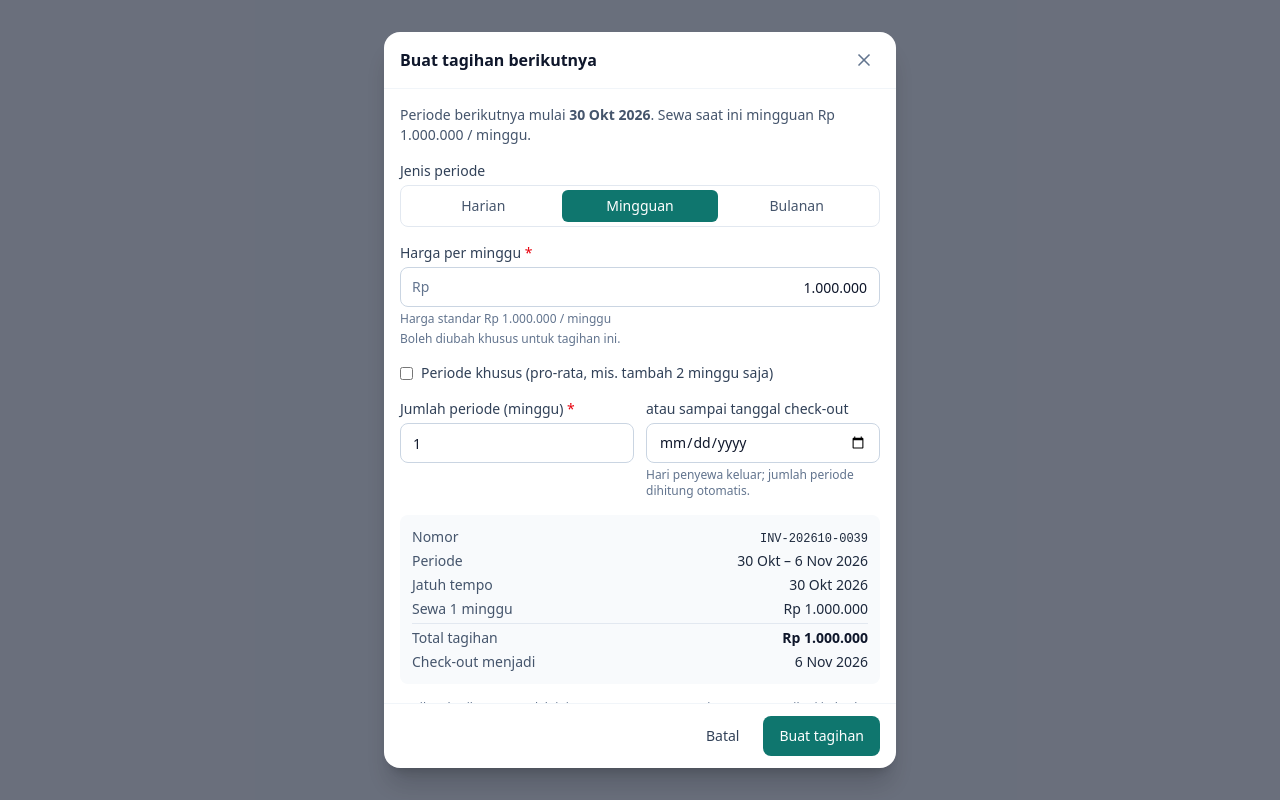
it: Buat tagihan berikutnya: deposit when a stay switches to weekly or monthly › a deposit partly received before: only what is still owed is received now
The width and height of the screenshot is (1280, 800).
Click the 2nd radio button labelled "Bulanan": (797, 206) left=718, top=190, right=875, bottom=222
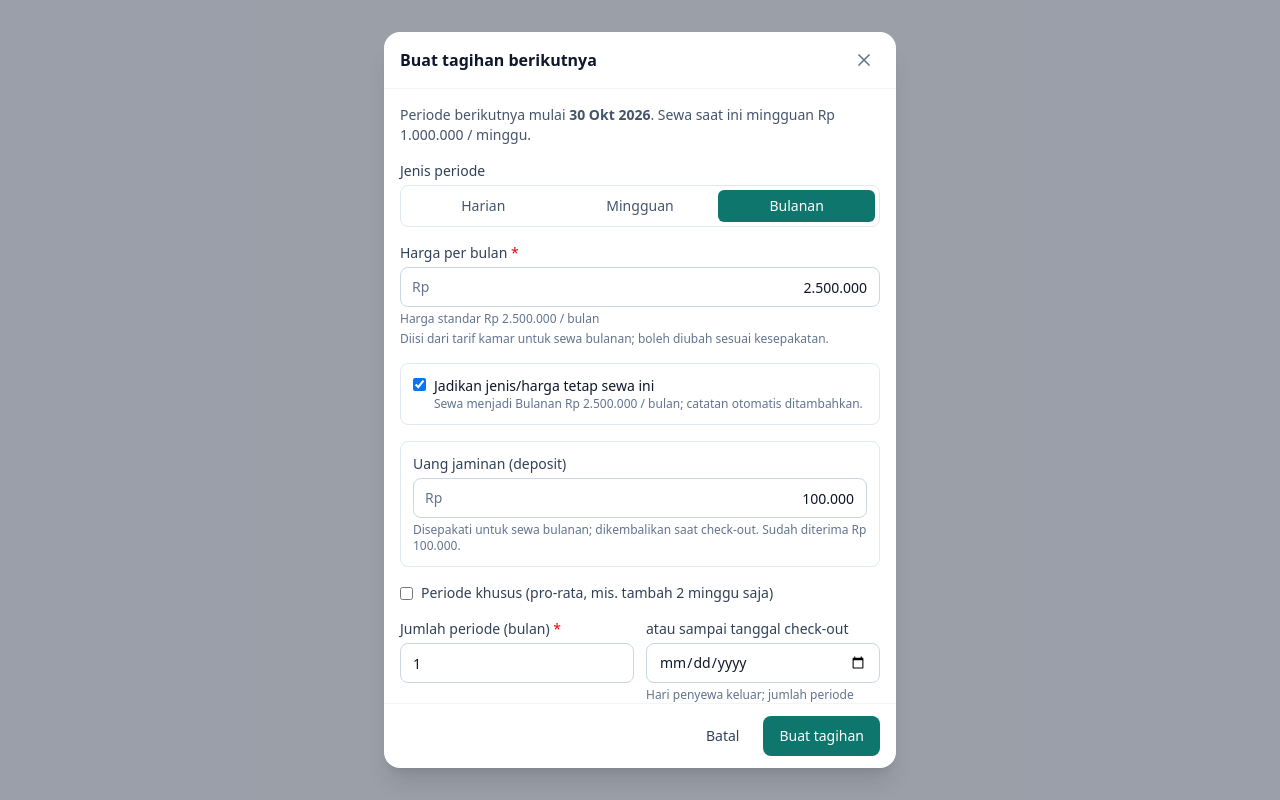
Now the field labelled "Uang jaminan (deposit)" holds "100.000"
Now the text "Sudah diterima Rp 100.000." is shown, box left=413, top=521, right=866, bottom=554
Replace the text in the field labelled "Uang jaminan (deposit)" with "300000": (640, 498) left=413, top=478, right=867, bottom=518
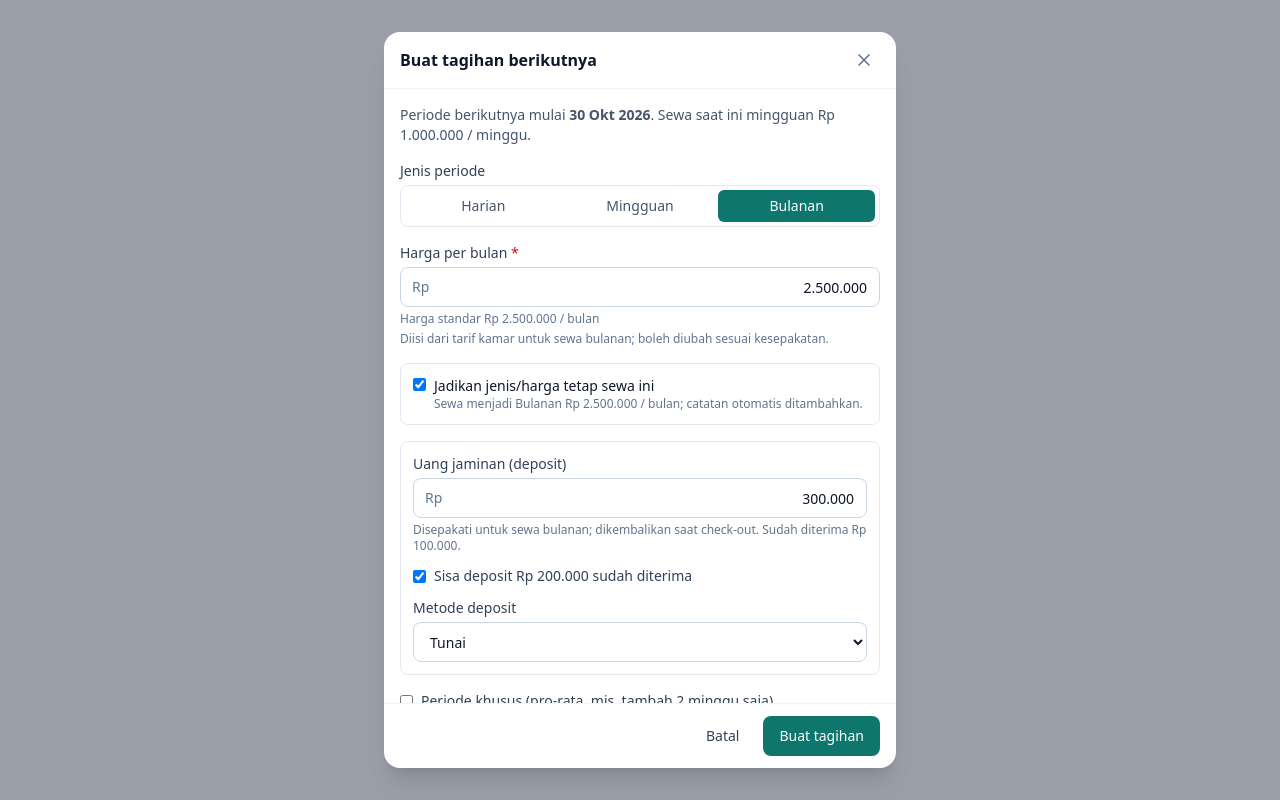
Now the checkbox labelled "Sisa deposit Rp 200.000 sudah diterima" is checked, box left=413, top=570, right=426, bottom=582
Click the button "Buat tagihan": (822, 736) left=763, top=716, right=880, bottom=756
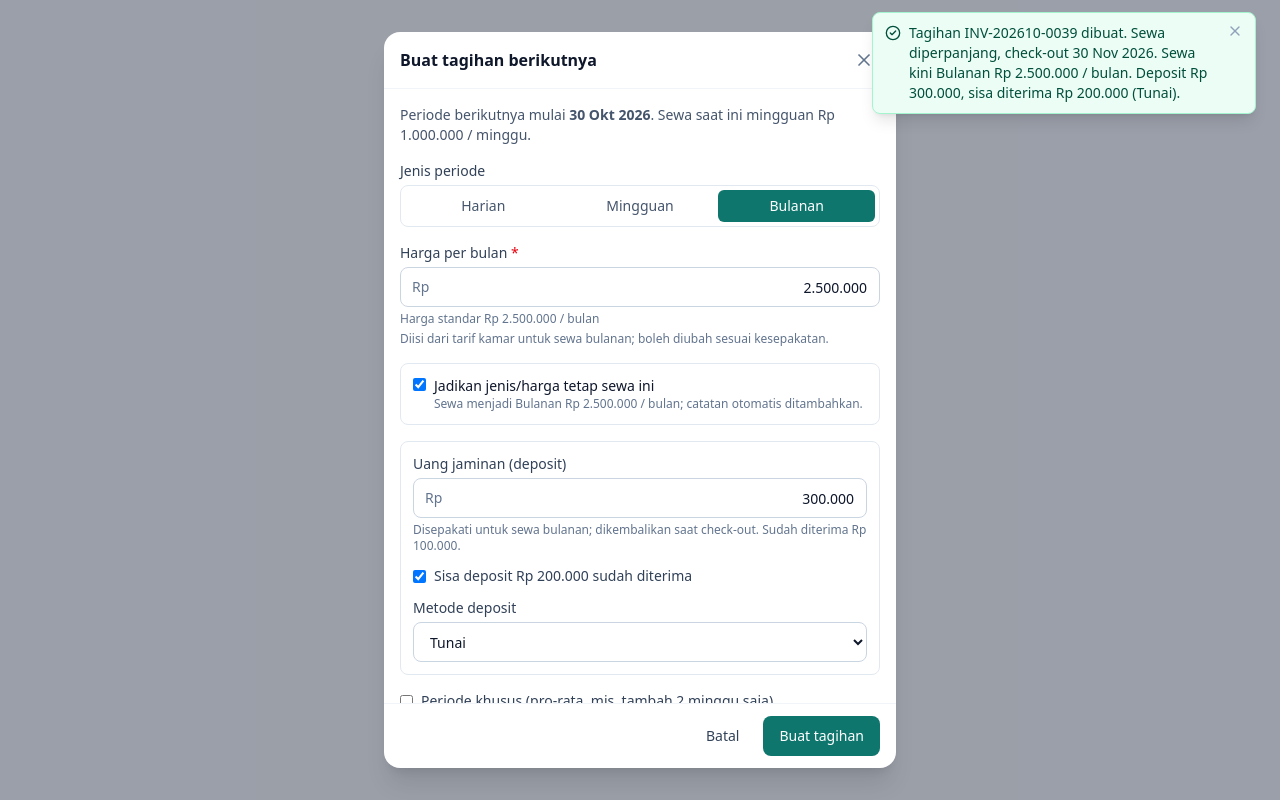
Now the text "Deposit Rp 300.000, sisa diterima Rp 200.000 (Tunai)." is shown, box left=909, top=23, right=1207, bottom=102
